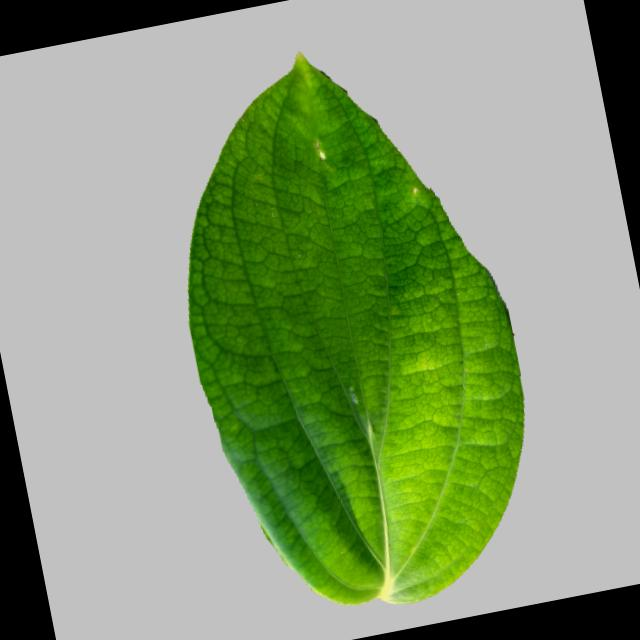healthy: (133, 14, 568, 640)
